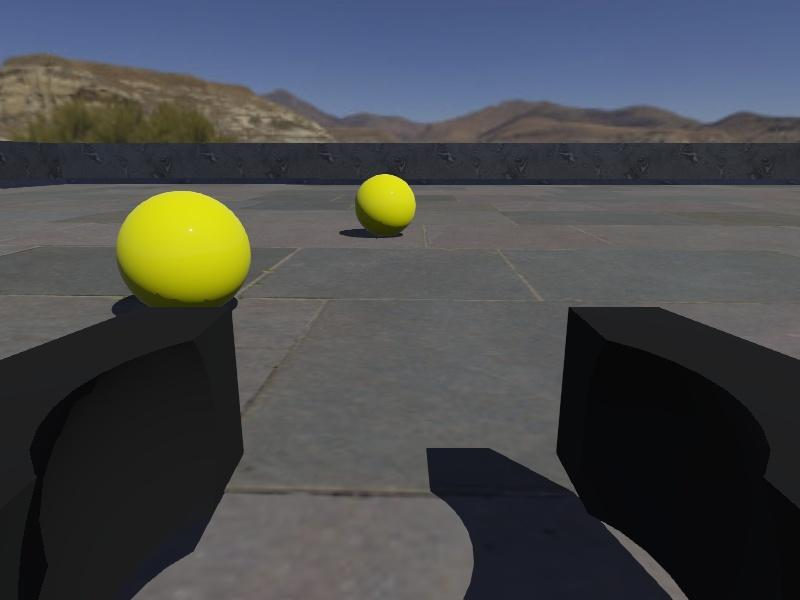yellow ball: (354, 172, 417, 237)
